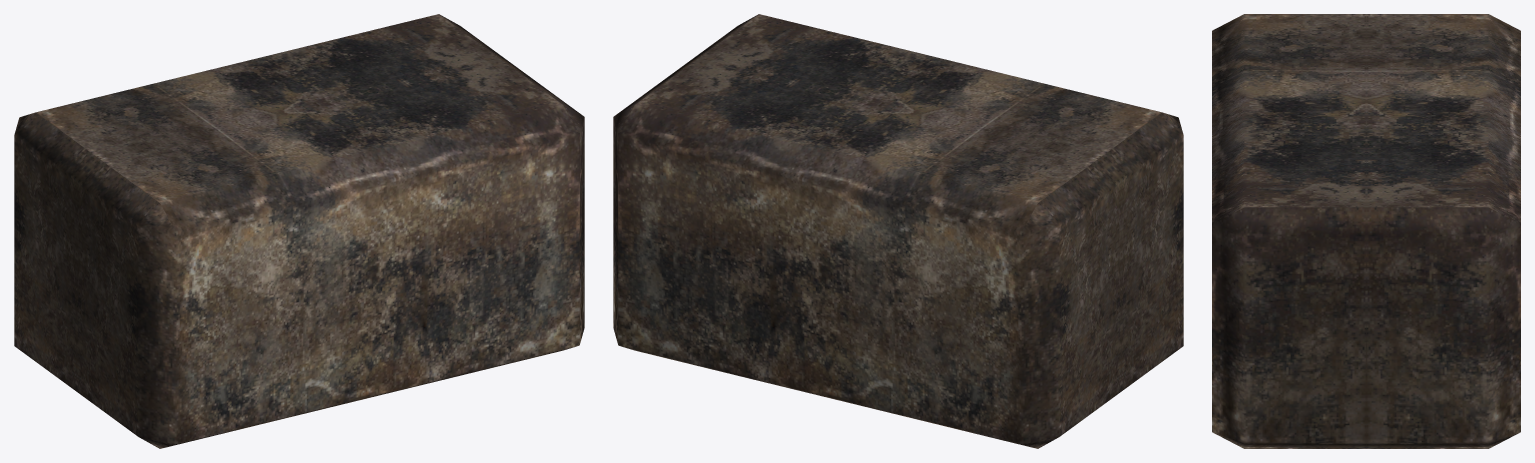
The model's file is wall_taureg_blocks03.dae.
3 views of the same model, side by side, from view 1: azimuth 30°, elevation 25°; view 2: azimuth 150°, elevation 25°; view 3: azimuth 270°, elevation 25° (orthographic).
Visible parts, largest first — view 1: LO3; view 2: LO3; view 3: LO3.
Part boxes in pixels (bbox=[...]): LO3: bbox=[14, 14, 584, 448]; LO3: bbox=[613, 14, 1183, 448]; LO3: bbox=[1212, 14, 1520, 448].
Bounding box in the file's own units: 0.9402 × 0.4951 × 0.5738.
